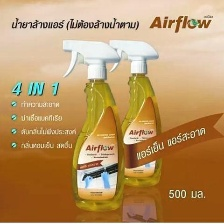cleaning_solution: (60, 37, 127, 215), (104, 38, 165, 190)
